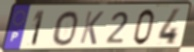0: (132, 8, 156, 47)
1: (30, 9, 46, 49)
2: (104, 10, 131, 45)
4: (157, 7, 183, 47)
K: (78, 10, 105, 47)
O: (51, 10, 80, 47)
